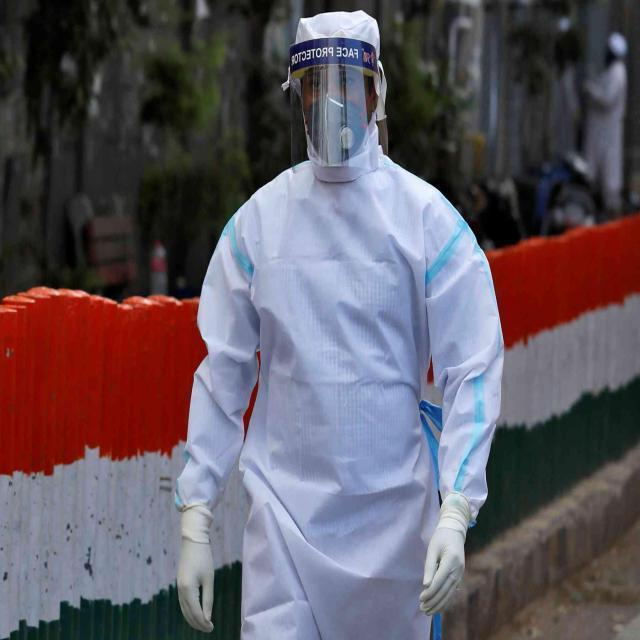gloves: (417, 504, 466, 616), (176, 528, 217, 632)
